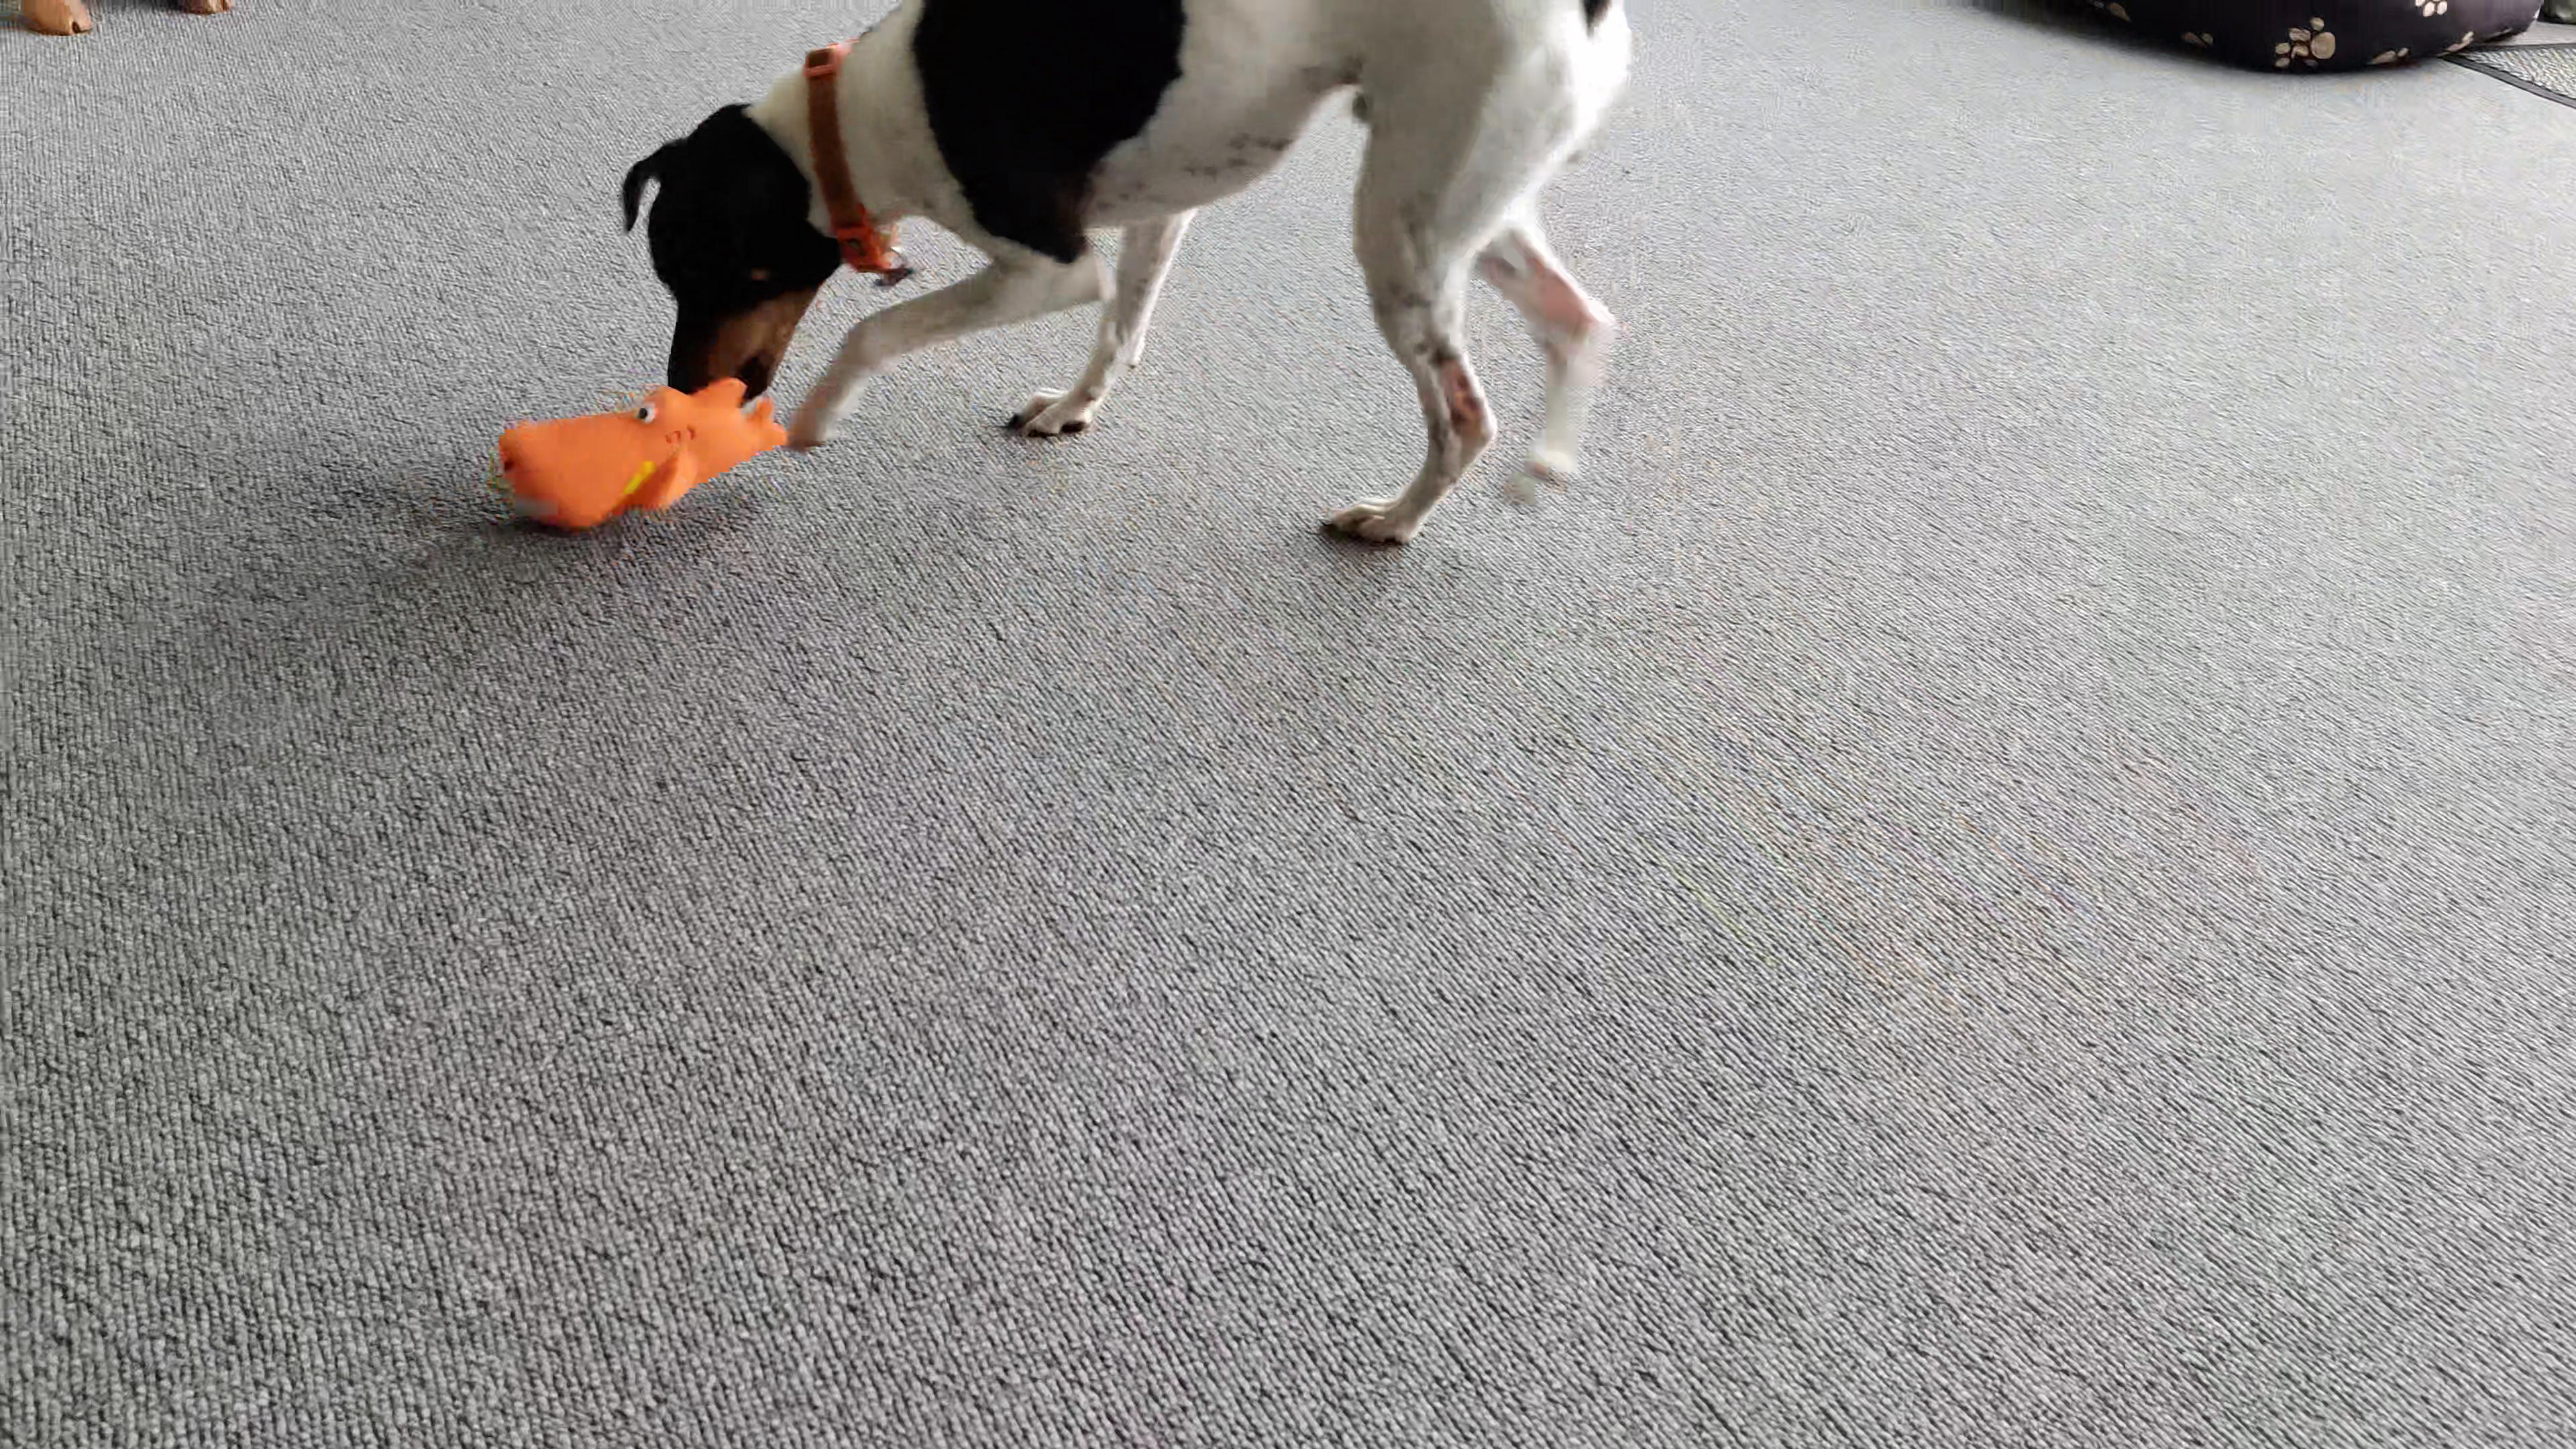Dog: (614, 0, 1644, 552)
